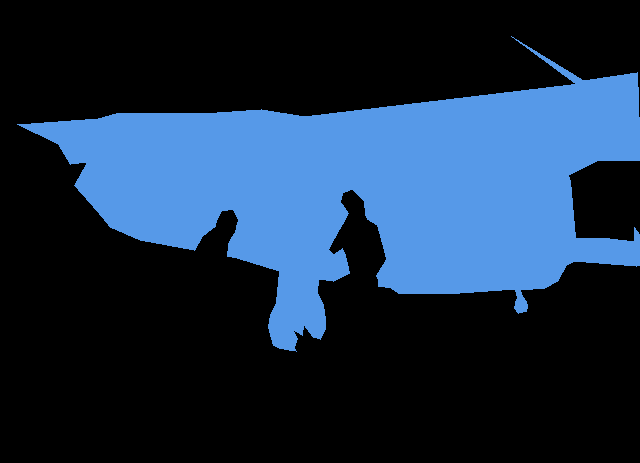Airplane: (17, 36, 640, 352)
